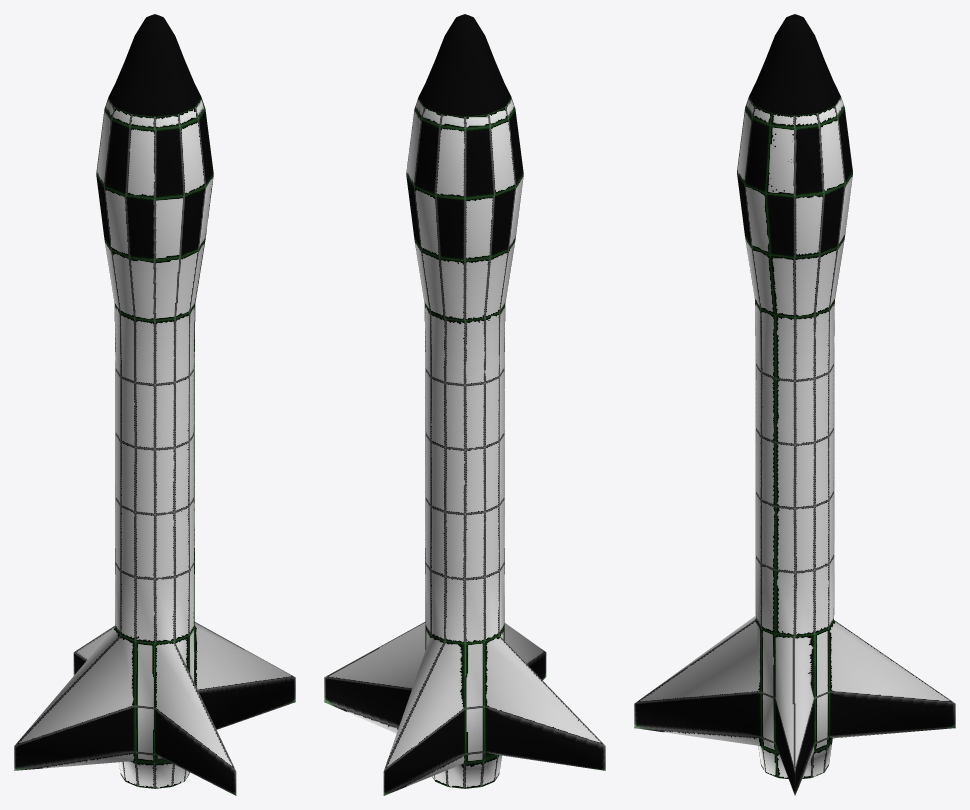
The model's file is Missile.FBX.
3 views of the same model, side by side, from view 1: azimuth 30°, elevation 25°; view 2: azimuth 150°, elevation 25°; view 3: azimuth 270°, elevation 25° (orthographic).
Parts seen in each view (by area): view 1: Missile; view 2: Missile; view 3: Missile.
Boxes of the visible parts, box(x1,y1,x2,y2) form: Missile: box(14, 14, 295, 795); Missile: box(324, 14, 605, 795); Missile: box(634, 14, 955, 795).
Size of the model in its own units: 40.95 by 106 by 40.95.
Materials: 1 (1 with a texture image).
